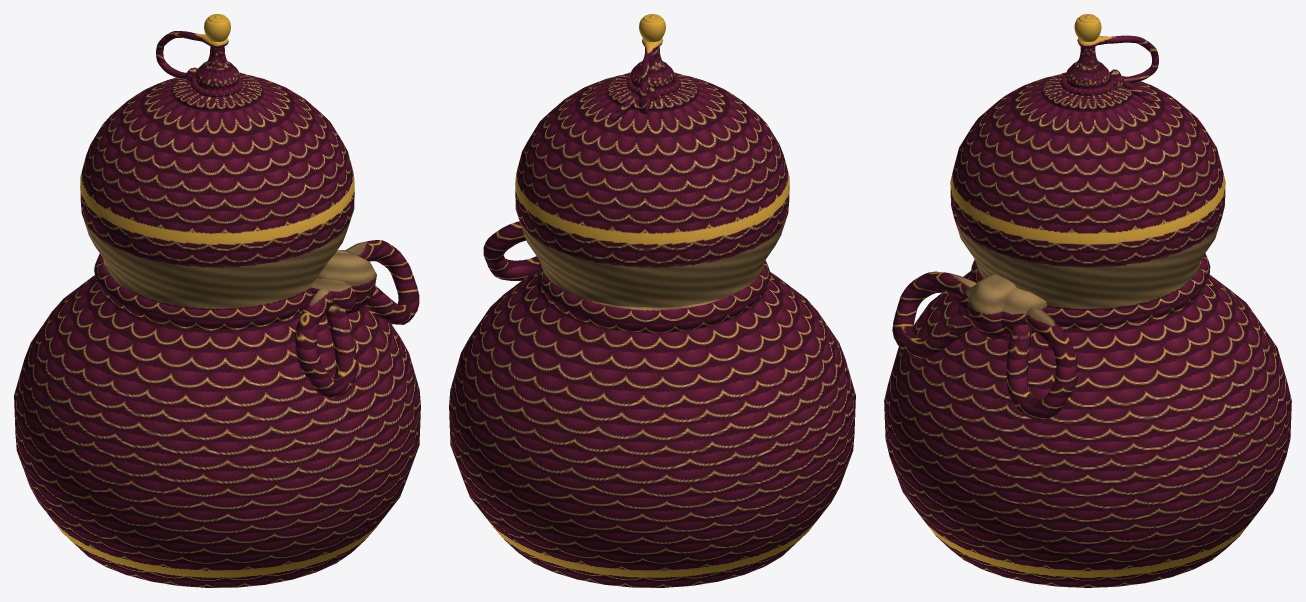
File: vigor_feed.glb
3 views of the same model, side by side, from view 1: azimuth 30°, elevation 25°; view 2: azimuth 150°, elevation 25°; view 3: azimuth 270°, elevation 25° (orthographic).
Visible parts, largest first — view 1: Tokkuri_Complete_Cylinder.005; view 2: Tokkuri_Complete_Cylinder.005; view 3: Tokkuri_Complete_Cylinder.005.
Part boxes in pixels (<box>): Tokkuri_Complete_Cylinder.005: <box>14,14,420,587</box>; Tokkuri_Complete_Cylinder.005: <box>449,14,855,587</box>; Tokkuri_Complete_Cylinder.005: <box>884,14,1291,587</box>.
Bounding box in the file's own units: 0.219 × 0.3 × 0.2163.
Materials: 1 (1 with a texture image).
